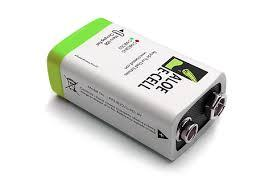9V: (41, 13, 233, 165)
